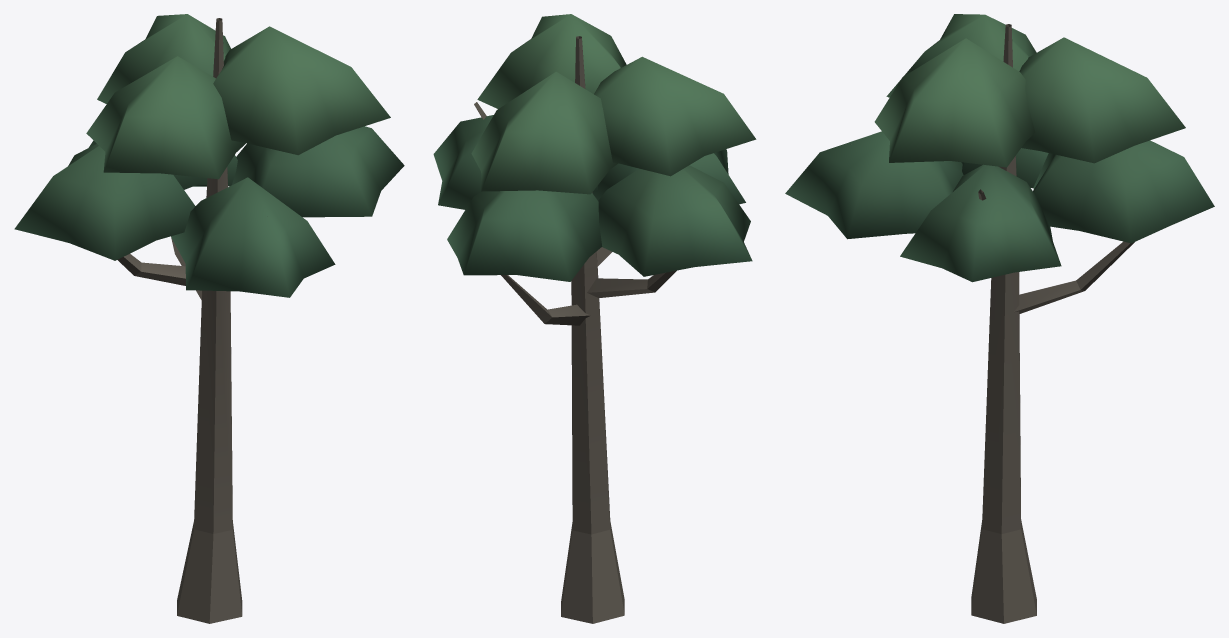
The model's file is tree-broadleaf-3.glb.
3 renders of one model, left to right at view 1: azimuth 30°, elevation 25°; view 2: azimuth 150°, elevation 25°; view 3: azimuth 270°, elevation 25°, orthographic. The views are drawn at different scales.
Visible parts, largest first — view 1: wood, leaves.006, leaves.005, leaves.002, leaves.001, leaves.003, leaves.004, wood.002, leaves; view 2: wood, leaves.001, leaves.004, leaves.005, leaves, leaves.006, leaves.003, leaves.002, wood.002, wood.001; view 3: leaves.006, wood, leaves.004, leaves, leaves.003, leaves.002, leaves.005, wood.001, leaves.001.
Boxes of the visible parts, <box> form: wood: <box>177,18,242,623</box>; leaves.006: <box>213,26,390,155</box>; leaves.005: <box>86,56,245,179</box>; leaves.002: <box>171,177,335,297</box>; leaves.001: <box>14,144,195,260</box>; leaves.003: <box>232,126,404,217</box>; leaves.004: <box>97,14,230,103</box>; wood.002: <box>117,254,185,285</box>; leaves: <box>88,140,237,189</box>; wood: <box>561,36,624,623</box>; leaves.001: <box>598,165,752,276</box>; leaves.004: <box>471,71,617,194</box>; leaves.005: <box>594,56,756,176</box>; leaves: <box>447,190,602,281</box>; leaves.006: <box>477,14,626,108</box>; leaves.003: <box>433,115,597,209</box>; leaves.002: <box>592,149,745,204</box>; wood.002: <box>587,270,676,297</box>; wood.001: <box>501,275,590,325</box>; leaves.006: <box>874,38,1035,167</box>; wood: <box>971,24,1036,623</box>; leaves.004: <box>1019,37,1185,163</box>; leaves: <box>1033,140,1214,243</box>; leaves.003: <box>900,164,1061,282</box>; leaves.002: <box>785,131,963,239</box>; leaves.005: <box>886,14,1036,97</box>; wood.001: <box>1014,241,1134,313</box>; leaves.001: <box>961,148,1048,188</box>.
Size of the model in its own units: 5.38 by 8.4 by 5.55.
